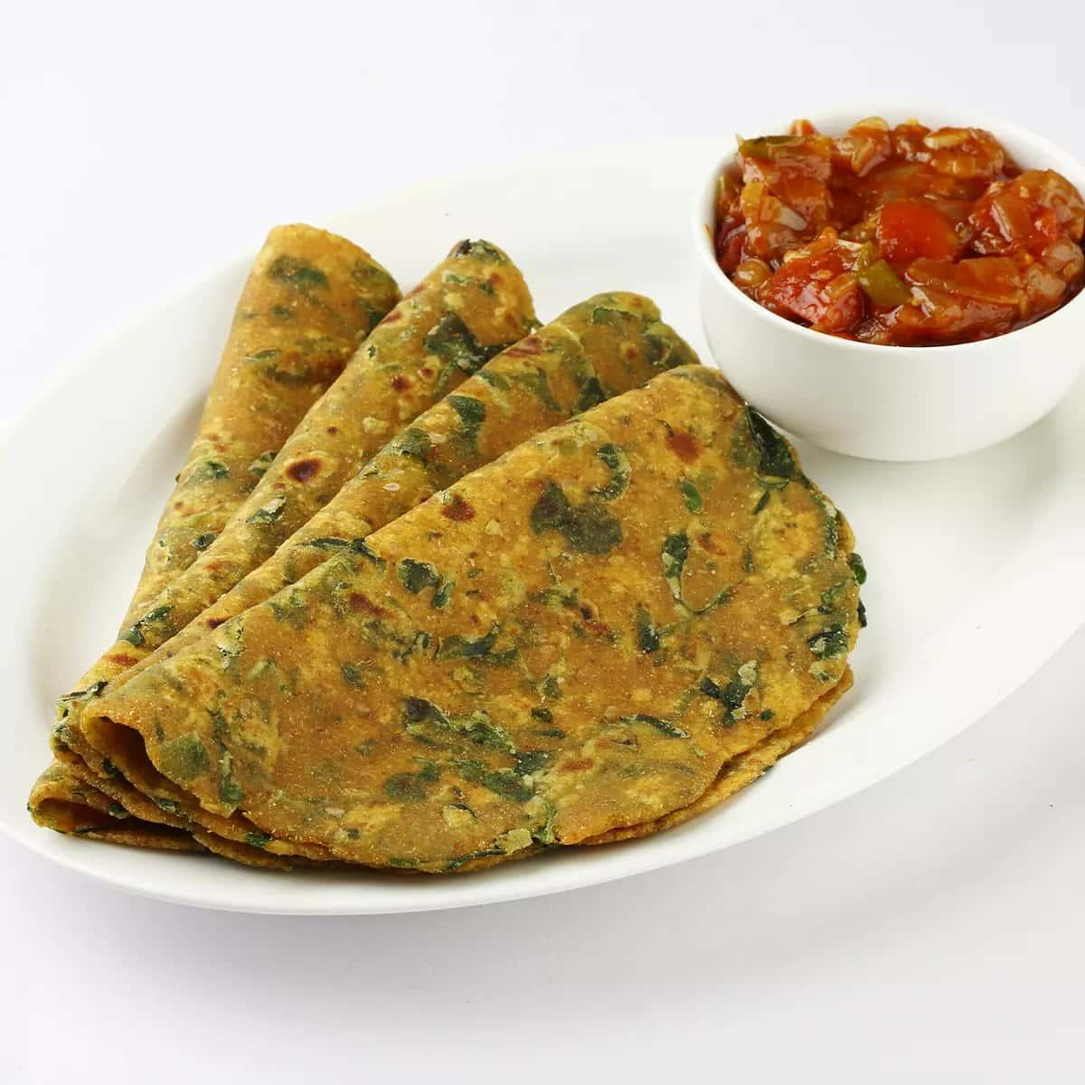thepla: (128, 272, 808, 898)
